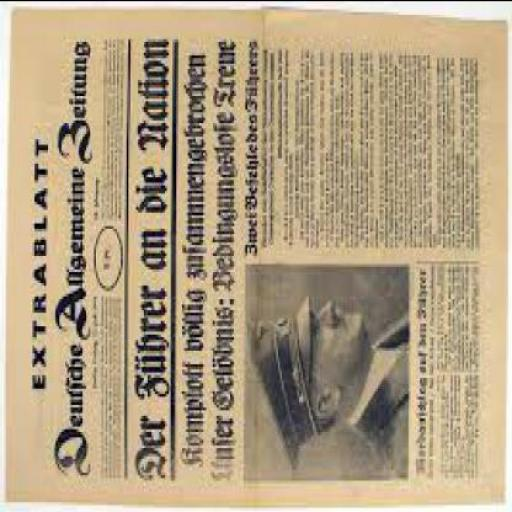paper: (0, 10, 512, 511)
